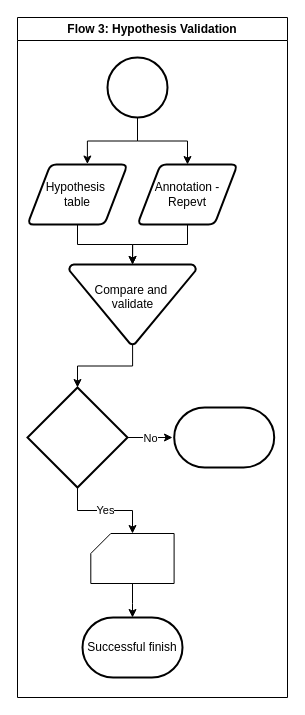
Some shapes in this 305 by 715 pixel diagram are drawn without their labels. The centre of each missing label's shape, as x and y in pixels:
"is model good enough" belongs at pixel 77 437.
"Unsuccessful finish" belongs at pixel 224 437.
"Validated Model" belongs at pixel 132 558.
